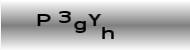3: (56, 9, 72, 23)
P: (36, 12, 51, 27)
Y: (87, 12, 102, 27)
g: (73, 20, 87, 34)
h: (101, 26, 115, 40)
